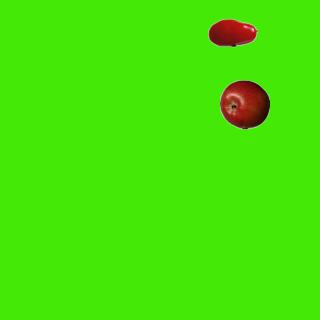Apple Braeburn: (219, 79, 269, 129)
Tomato 2: (207, 7, 257, 57)
